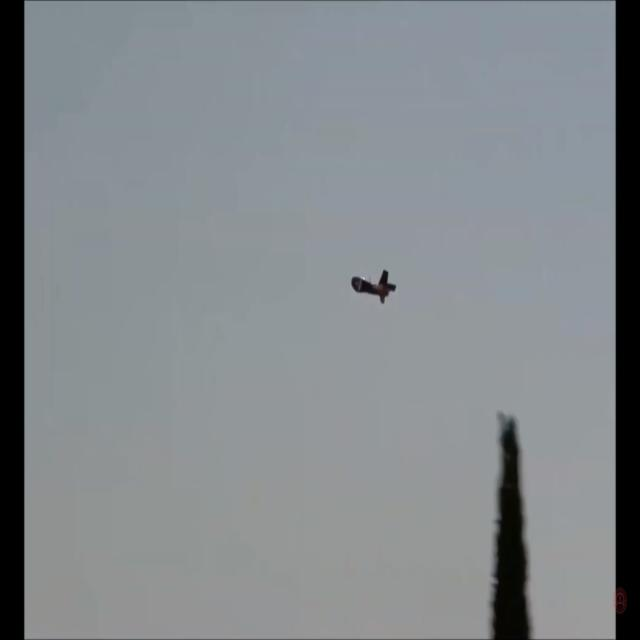iha: (351, 268, 397, 306)
